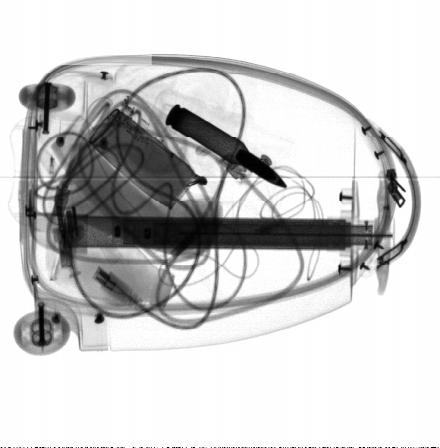Bullet: (164, 104, 288, 188)
